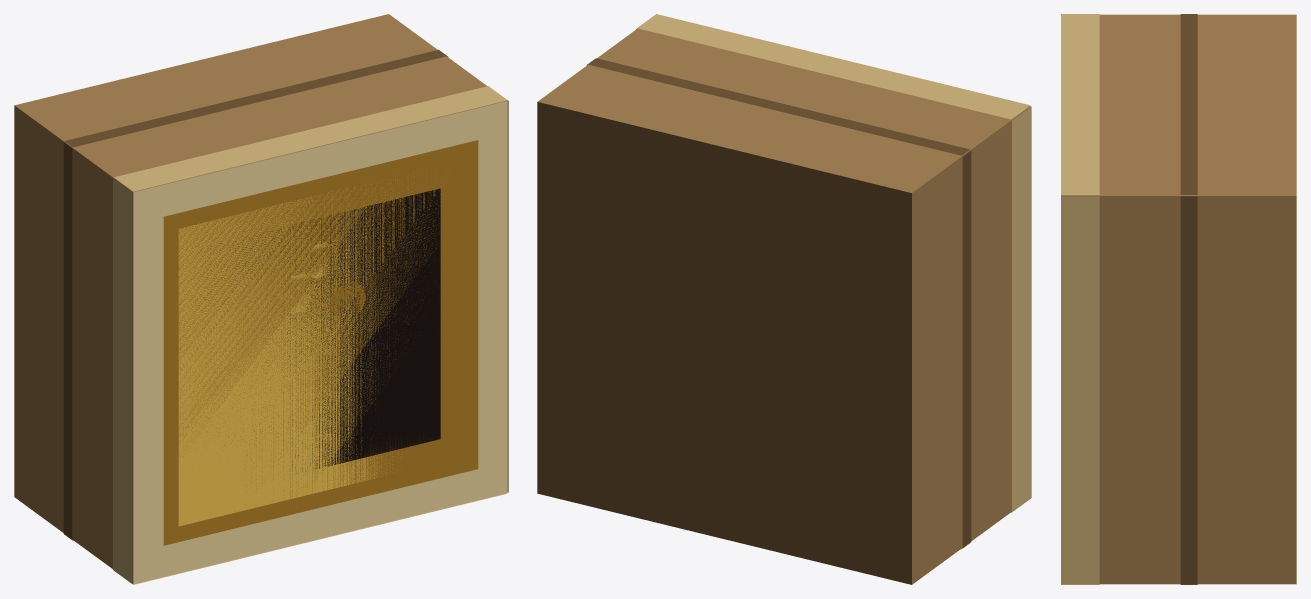
Rendered from goal.obj.
The picture shows the model from 3 angles, left to right: view 1: azimuth 30°, elevation 25°; view 2: azimuth 150°, elevation 25°; view 3: azimuth 270°, elevation 25°; orthographic projection.
Visible parts, largest first — view 1: goal_decal, goal; view 2: goal, goal_decal; view 3: goal, goal_decal.
Boxes of the visible parts, x1,y1,x2,y2 form: goal_decal: [63, 50, 508, 584]; goal: [14, 14, 507, 583]; goal: [537, 28, 1030, 584]; goal_decal: [586, 14, 1031, 548]; goal: [1061, 14, 1296, 584]; goal_decal: [1061, 14, 1197, 584].
Bounding box in the file's own units: 1 × 1 × 0.552.
